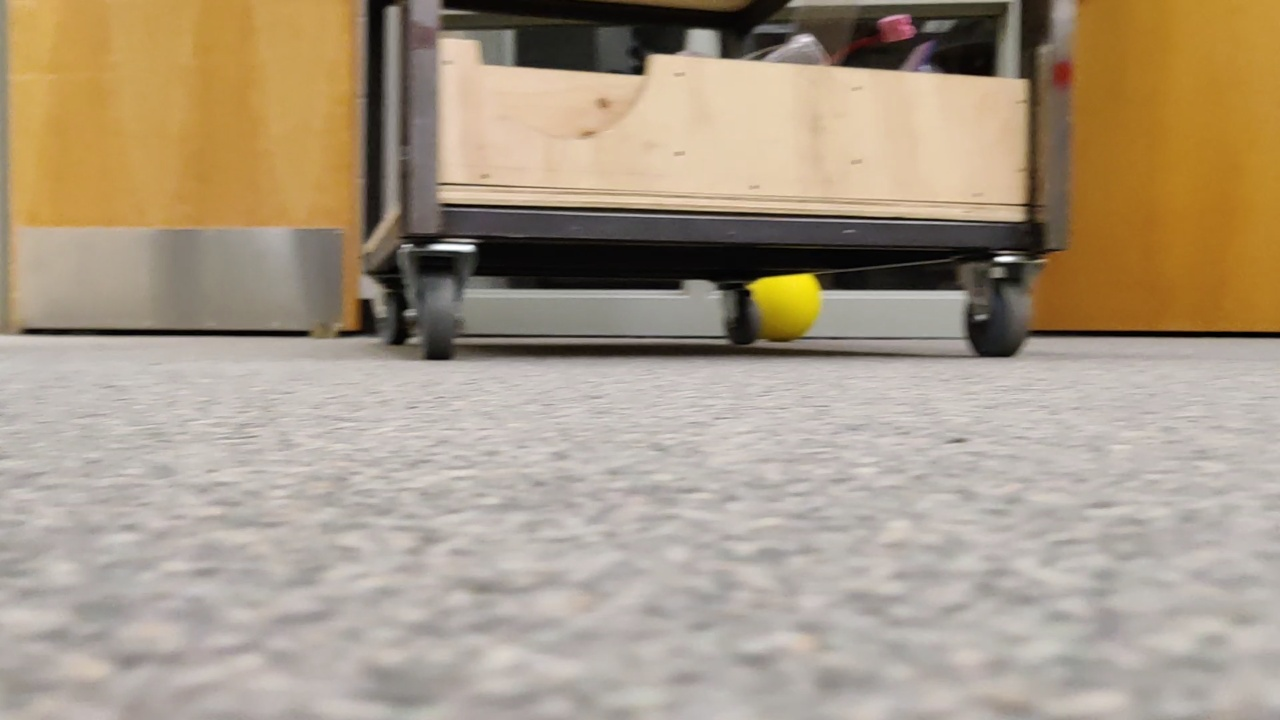Ball: (734, 269, 821, 351)
